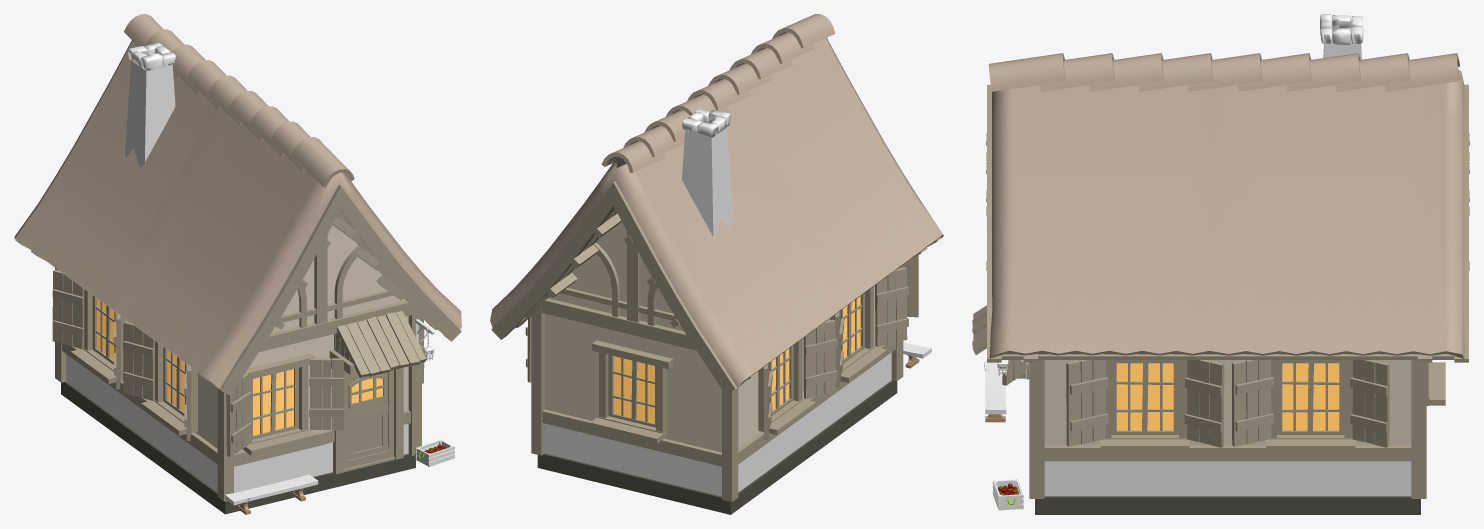
The model's file is eastbrook_home.glb.
The picture shows the model from 3 angles, left to right: view 1: azimuth 30°, elevation 25°; view 2: azimuth 150°, elevation 25°; view 3: azimuth 270°, elevation 25°; orthographic projection. The views are drawn at different scales.
Parts seen in each view (by area): view 1: village/MI_RoundTiles, village/MI_WoodTrim, village/MI_WoodTrim_Wear, village/MI_Plaster, village/MI_UnevenBrick, object 8, village/MI_Brick, village/MI_WindowGlass, props/MI_Trim_Furniture (×2), village/MI_RockTrim; view 2: village/MI_RoundTiles, village/MI_WoodTrim, village/MI_Plaster, village/MI_UnevenBrick, village/MI_WoodTrim_Wear, object 8, village/MI_Brick, village/MI_WindowGlass, village/MI_RockTrim; view 3: village/MI_RoundTiles, village/MI_WoodTrim, village/MI_WoodTrim_Wear, village/MI_UnevenBrick, object 8, village/MI_WindowGlass, village/MI_Plaster, props/MI_Trim_Furniture (×2), village/MI_RockTrim.
Boxes of the visible parts, x1,y1,x2,y2 form: village/MI_RoundTiles: [14, 14, 461, 388]; village/MI_WoodTrim: [15, 185, 461, 501]; village/MI_WoodTrim_Wear: [52, 269, 426, 456]; village/MI_Plaster: [127, 225, 408, 451]; village/MI_UnevenBrick: [66, 354, 319, 492]; object 8: [61, 381, 415, 514]; village/MI_Brick: [125, 61, 175, 167]; village/MI_WindowGlass: [97, 298, 382, 435]; props/MI_Trim_Furniture (×2): [225, 439, 454, 514]; village/MI_RockTrim: [128, 42, 408, 475]; village/MI_RoundTiles: [490, 14, 943, 387]; village/MI_WoodTrim: [491, 181, 943, 501]; village/MI_Plaster: [544, 222, 876, 452]; village/MI_UnevenBrick: [544, 352, 891, 496]; village/MI_WoodTrim_Wear: [525, 255, 918, 439]; object 8: [537, 380, 897, 514]; village/MI_Brick: [682, 122, 732, 238]; village/MI_WindowGlass: [613, 296, 860, 423]; village/MI_RockTrim: [682, 109, 730, 137]; village/MI_RoundTiles: [988, 53, 1464, 358]; village/MI_WoodTrim: [986, 84, 1469, 498]; village/MI_WoodTrim_Wear: [972, 305, 1389, 447]; village/MI_UnevenBrick: [1044, 461, 1411, 496]; object 8: [1035, 496, 1420, 514]; village/MI_WindowGlass: [1116, 363, 1339, 430]; village/MI_Plaster: [1044, 360, 1411, 445]; props/MI_Trim_Furniture (×2): [984, 361, 1023, 510]; village/MI_RockTrim: [1320, 14, 1363, 44].
Bounding box in the file's own units: 5.51 × 7.22 × 7.81.
